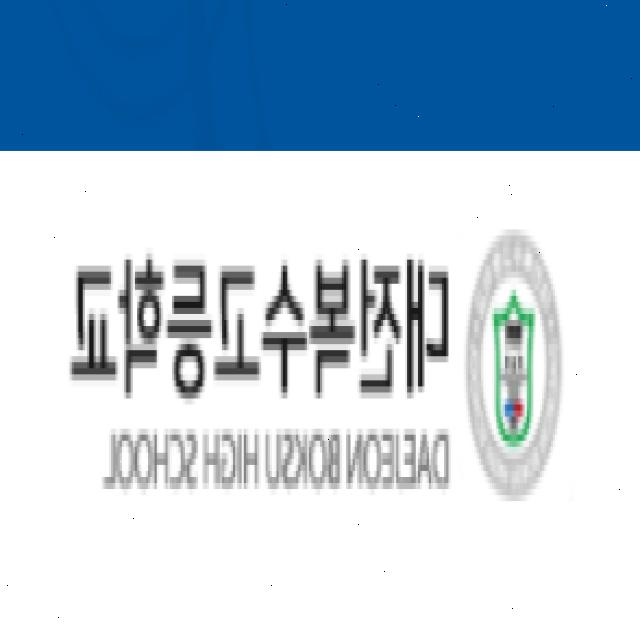logo: (458, 212, 566, 518)
